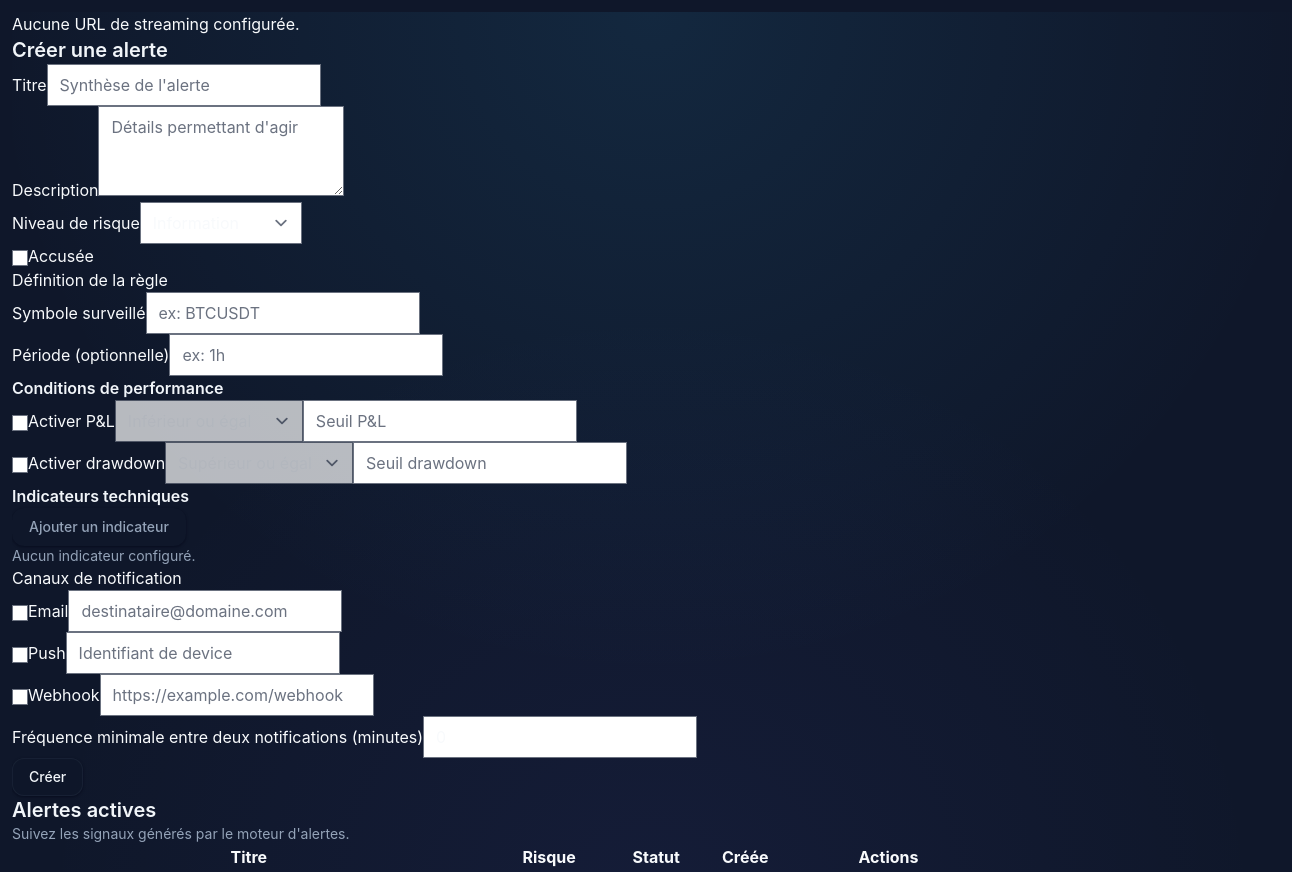
AlertManager › affiche un message d'erreur lorsque la création échoue
The image size is (1292, 872).
Type "Nouvelle alerte" into the field labelled "Titre".
click(184, 85); type("Nouvelle alerte")  # box [46,64,320,106]
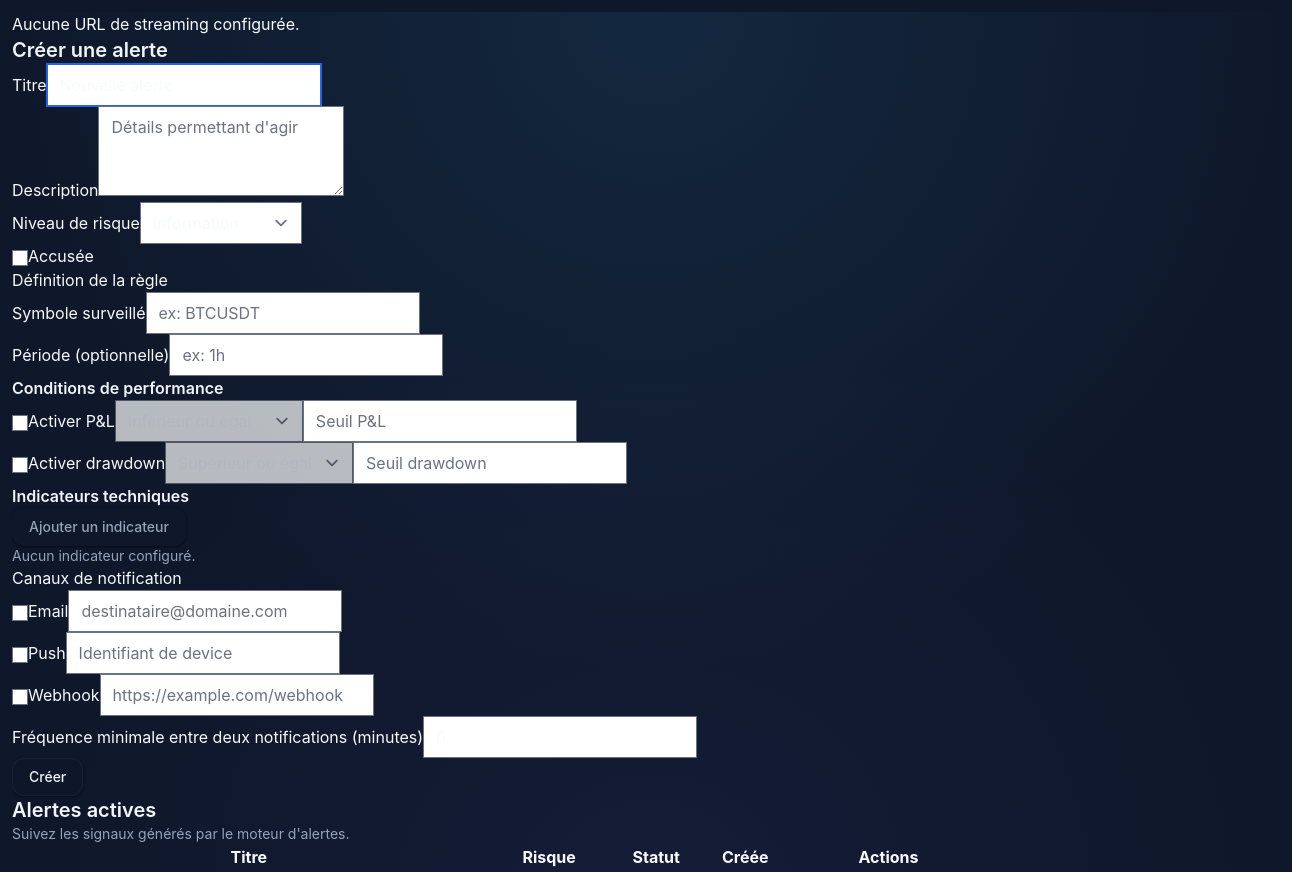
Type "Impossible de joindre le moteur." into the text box labelled "Description".
click(222, 151); type("Impossible de joindre le moteur.")  # box [98,106,344,196]
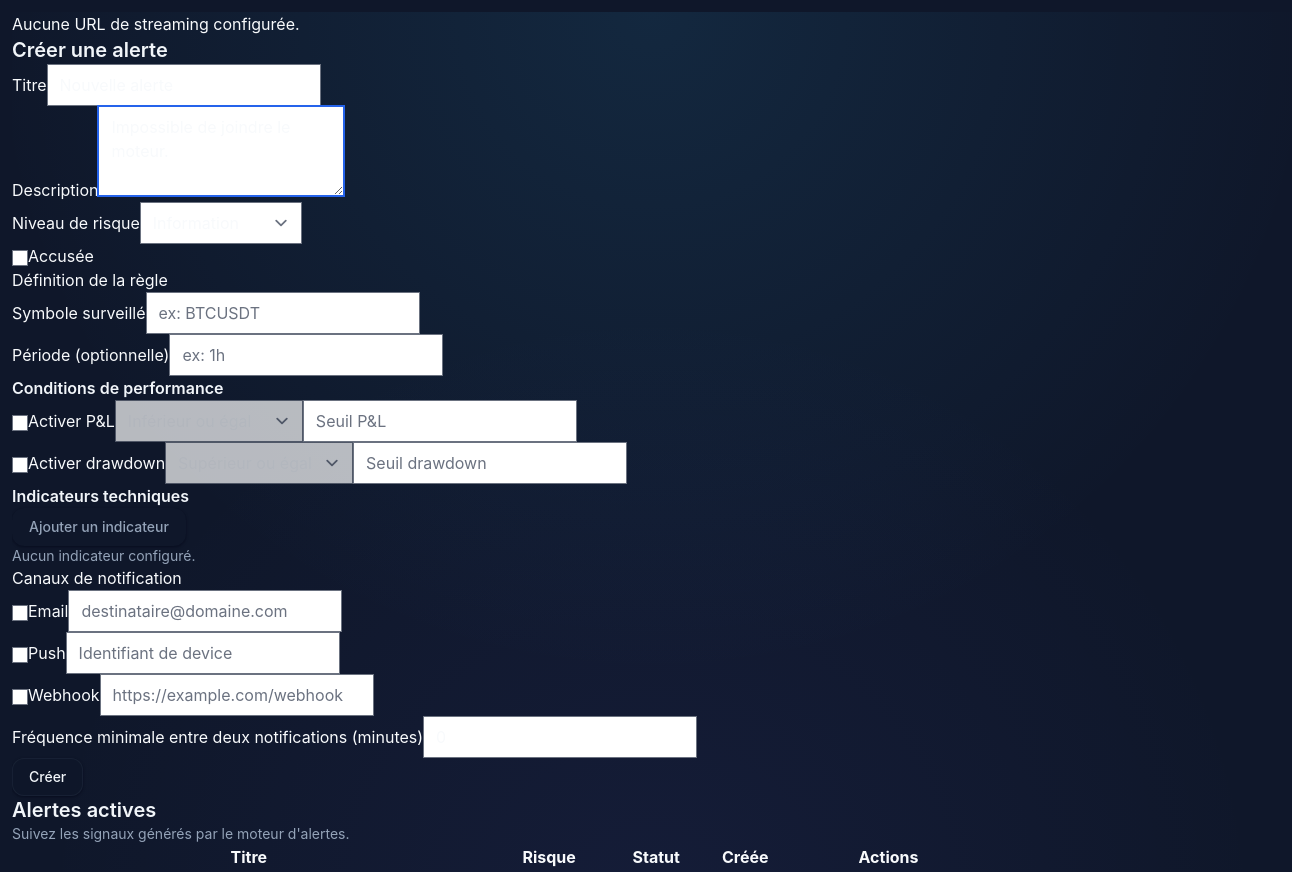
Type "BTCUSDT" into the field labelled "Symbole surveillé".
click(282, 313); type("BTCUSDT")  # box [146,292,420,334]
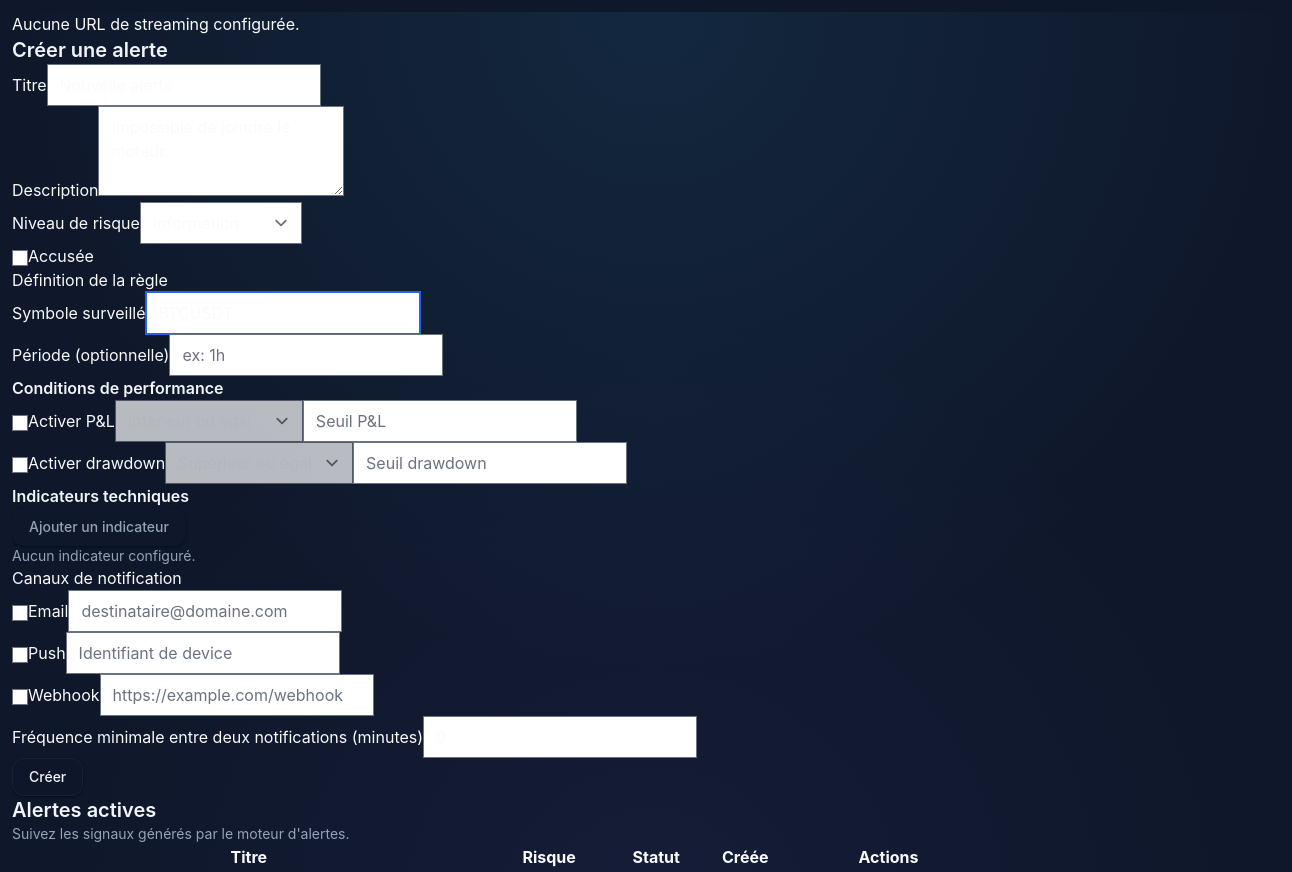
Click the button "Créer".
click(48, 777)  # box [12,758,83,796]
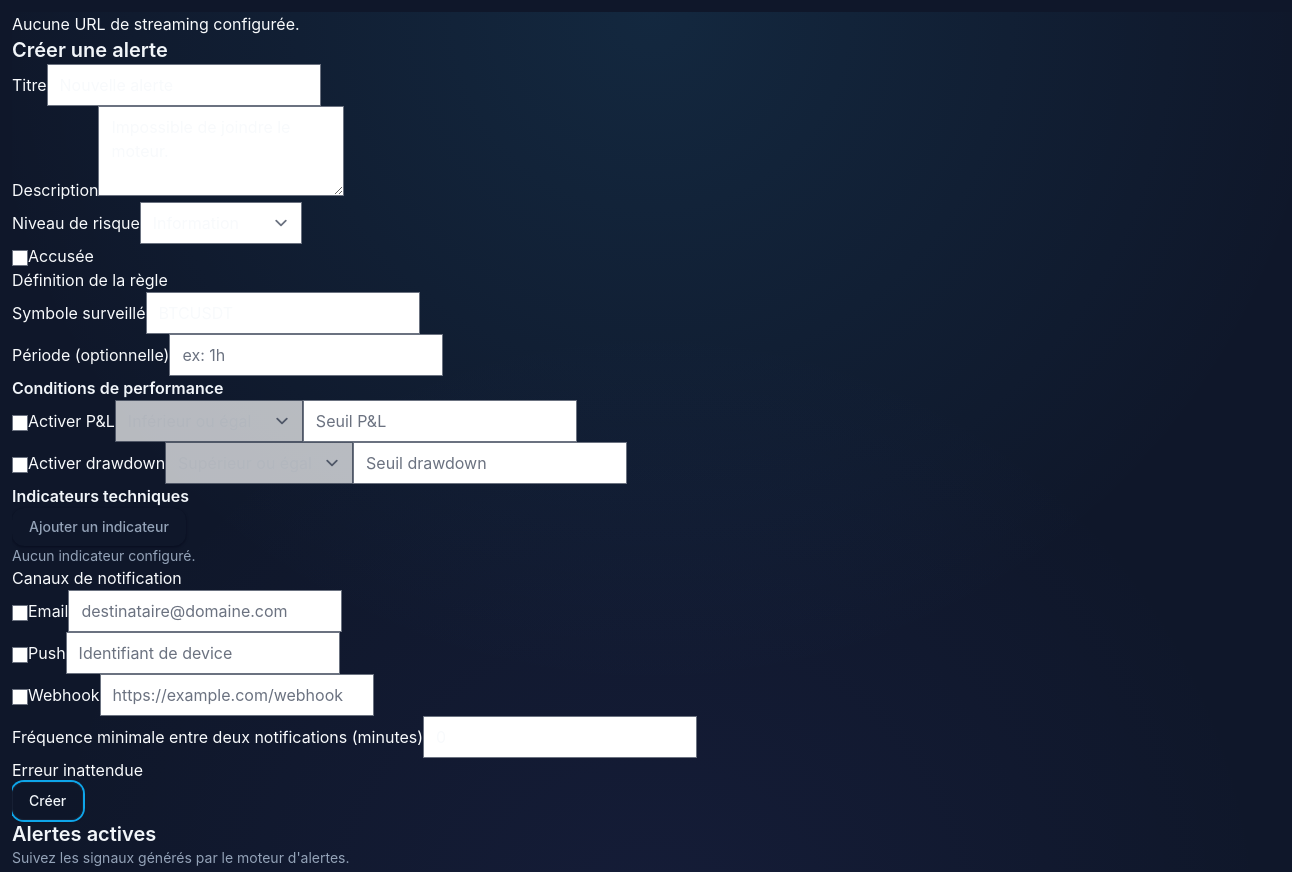
Expected: the text "Erreur inattendue" is shown, [12,760,143,780]
